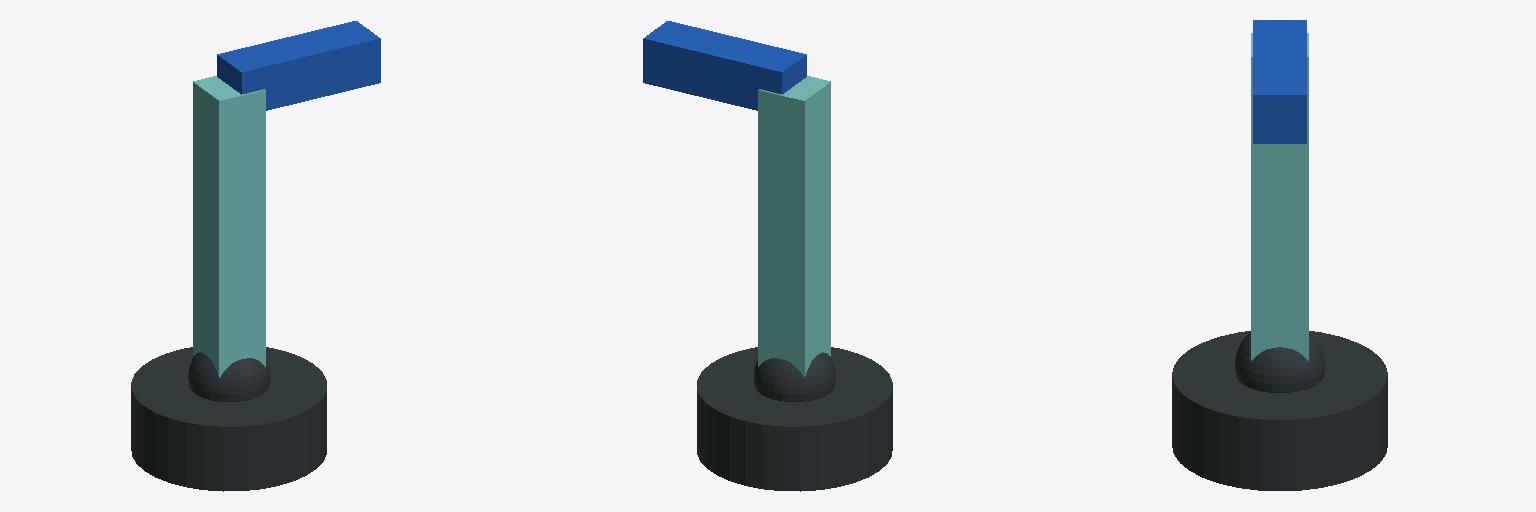
robot.urdf — Cutu two-axis arm:
<?xml version="1.0"?>
<!-- SI: metres, kilograms, radians. Z-up. An engineering demonstration with authored ideal rigid-body properties. -->
<robot name="Cutu two-axis arm">
  <material name="graphite"><color rgba="0.23 0.26 0.27 1"/></material>
  <material name="mint"><color rgba="0.50 0.80 0.77 1"/></material>
  <material name="blue"><color rgba="0.18 0.42 0.78 1"/></material>
  <link name="base">
    <inertial><origin xyz="0 0 0.04"/><mass value="2"/><inertia ixx="0.0071" ixy="0" ixz="0" iyy="0.0071" iyz="0" izz="0.012"/></inertial>
    <visual><origin xyz="0 0 0.04"/><geometry><cylinder radius="0.11" length="0.08"/></geometry><material name="graphite"/></visual>
    <collision><origin xyz="0 0 0.04"/><geometry><cylinder radius="0.11" length="0.08"/></geometry></collision>
  </link>
  <link name="upper_arm">
    <inertial><origin xyz="0 0 0.18"/><mass value="0.8"/><inertia ixx="0.009" ixy="0" ixz="0" iyy="0.009" iyz="0" izz="0.00048"/></inertial>
    <visual><origin xyz="0 0 0.18"/><geometry><box size="0.06 0.06 0.36"/></geometry><material name="mint"/></visual>
    <collision><origin xyz="0 0 0.18"/><geometry><box size="0.06 0.06 0.36"/></geometry></collision>
    <visual><geometry><sphere radius="0.046"/></geometry><material name="graphite"/></visual>
  </link>
  <link name="slider">
    <inertial><origin xyz="0.09 0 0"/><mass value="0.25"/><inertia ixx="0.00013" ixy="0" ixz="0" iyy="0.0008" iyz="0" izz="0.0008"/></inertial>
    <visual><origin xyz="0.09 0 0"/><geometry><box size="0.18 0.055 0.055"/></geometry><material name="blue"/></visual>
    <collision><origin xyz="0.09 0 0"/><geometry><box size="0.18 0.055 0.055"/></geometry></collision>
  </link>
  <joint name="shoulder" type="revolute"><parent link="base"/><child link="upper_arm"/><origin xyz="0 0 0.09"/><axis xyz="0 1 0"/><limit lower="-1.2" upper="1.2"/></joint>
  <joint name="extension" type="prismatic"><parent link="upper_arm"/><child link="slider"/><origin xyz="0 0 0.36"/><axis xyz="1 0 0"/><limit lower="0" upper="0.16"/></joint>
</robot>

--- Render facts (derived) ---
Views: 3 orthographic renders of the robot side by side, from view 1: azimuth 30°, elevation 25°; view 2: azimuth 150°, elevation 25°; view 3: azimuth 270°, elevation 25°.
Model Cutu two-axis arm with 3 links and 2 joints (1 revolute, 1 prismatic), rooted at base, posed all joints at 0.
Links seen in each view (by area): view 1: upper_arm, base, slider; view 2: upper_arm, base, slider; view 3: base, upper_arm, slider.
Boxes of the visible links, x1=… form: upper_arm: x1=188, y1=76, x2=269, y2=401; base: x1=131, y1=347, x2=326, y2=491; slider: x1=217, y1=21, x2=380, y2=110; upper_arm: x1=754, y1=76, x2=835, y2=401; base: x1=697, y1=347, x2=892, y2=491; slider: x1=643, y1=21, x2=806, y2=110; base: x1=1172, y1=331, x2=1387, y2=490; upper_arm: x1=1235, y1=33, x2=1324, y2=392; slider: x1=1253, y1=20, x2=1306, y2=143.
Bounding box of the posed robot: 0.29 × 0.22 × 0.4775 m (x, y, z).
Geometry: primitives only (box / cylinder / sphere), no mesh files.
